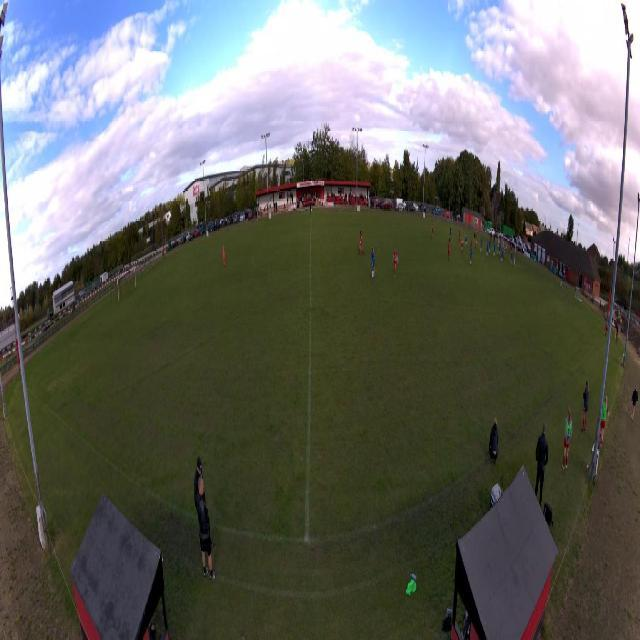ball: (604, 331, 605, 335)
player: (392, 247, 398, 277), (371, 248, 375, 279), (359, 230, 363, 256), (222, 245, 226, 266), (448, 237, 451, 261), (461, 236, 465, 254), (470, 244, 473, 266), (604, 322, 608, 337), (469, 239, 472, 257), (431, 222, 434, 240), (510, 250, 513, 264), (449, 226, 451, 242), (459, 227, 461, 243), (465, 231, 467, 247), (480, 237, 482, 253), (475, 235, 477, 251), (486, 241, 488, 257), (493, 242, 495, 258), (501, 246, 503, 262), (503, 244, 505, 260), (489, 239, 491, 253), (499, 242, 501, 256), (502, 242, 504, 252)
